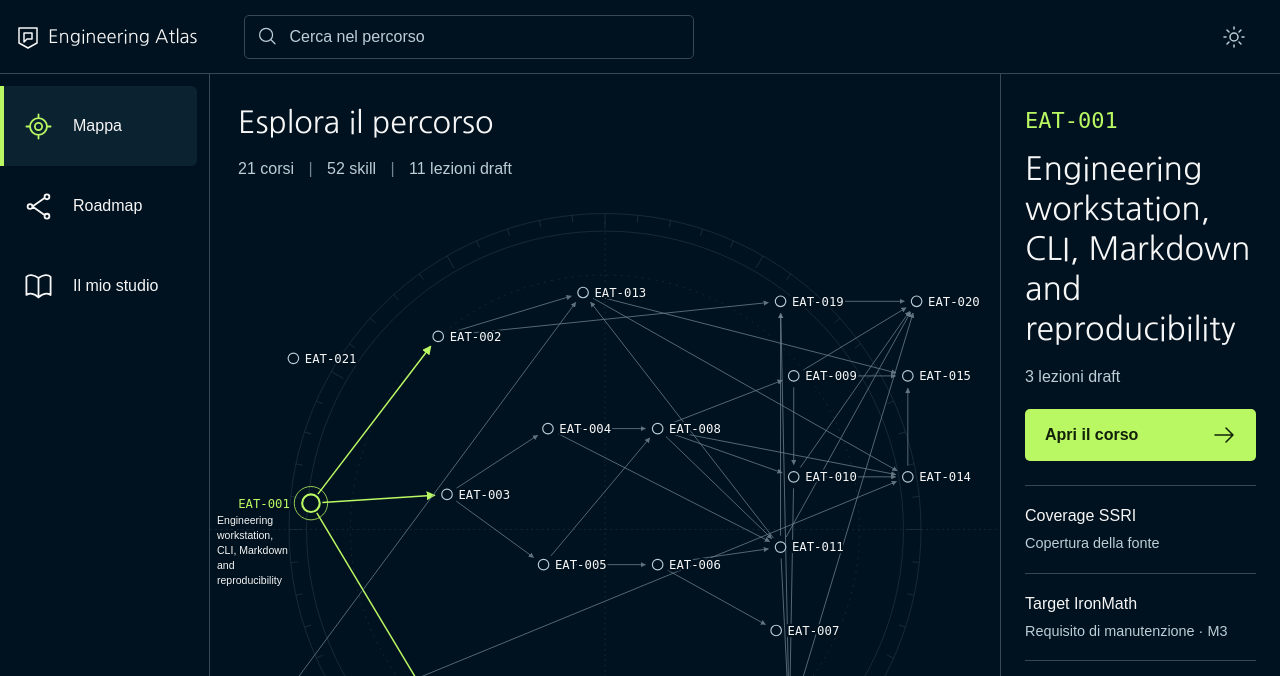
it: Atlas study journeys › opens the roadmap and all 21 canonical courses
What coordinates should you click on to do the following:
click the link "Roadmap"
I would click on:
 (83, 206)
Its box is x1=24 y1=192 x2=142 y2=220.
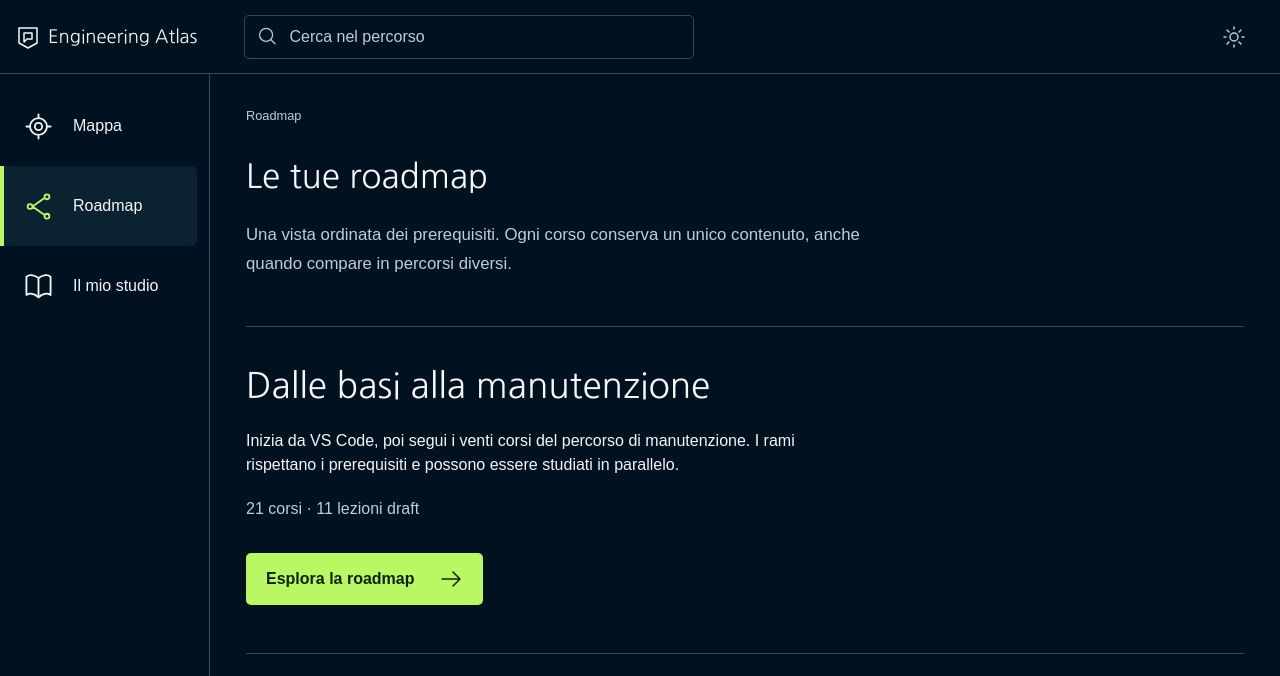
What coordinates should you click on to do the following:
click the link "Esplora la roadmap"
I would click on:
 (364, 579)
Its box is x1=246 y1=553 x2=482 y2=605.
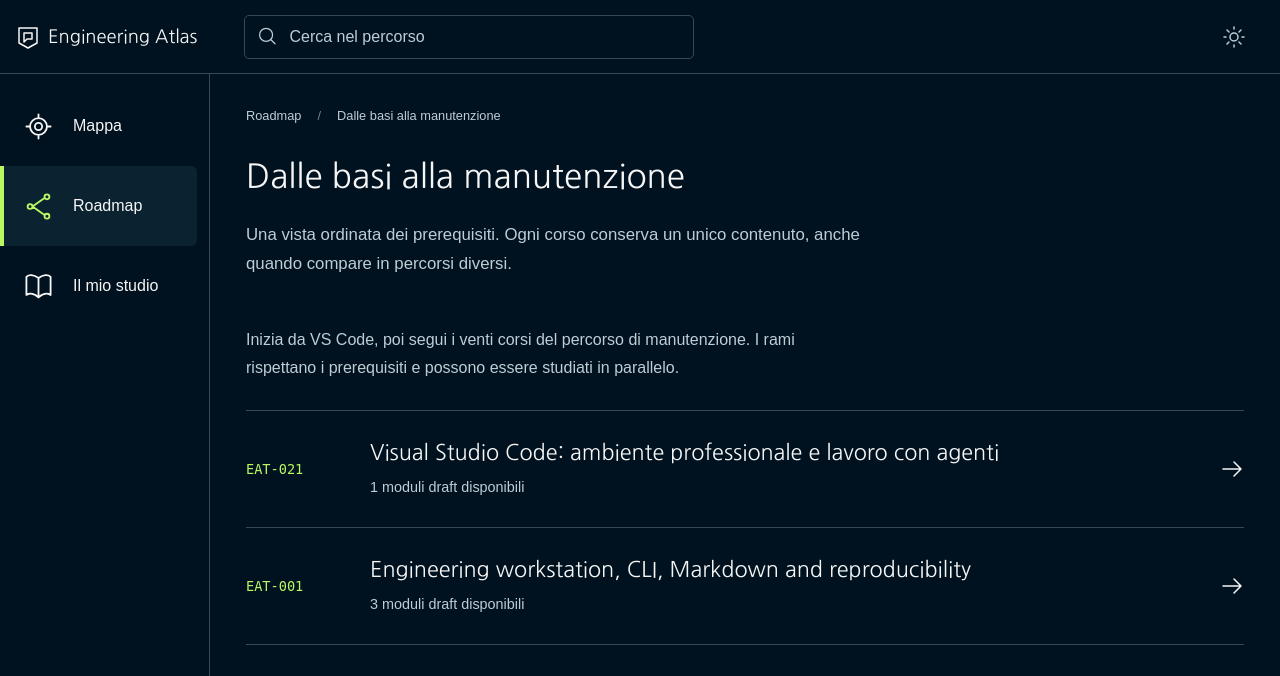
Result: the heading "Dalle basi alla manutenzione" is shown at x1=246 y1=160 x2=685 y2=193
